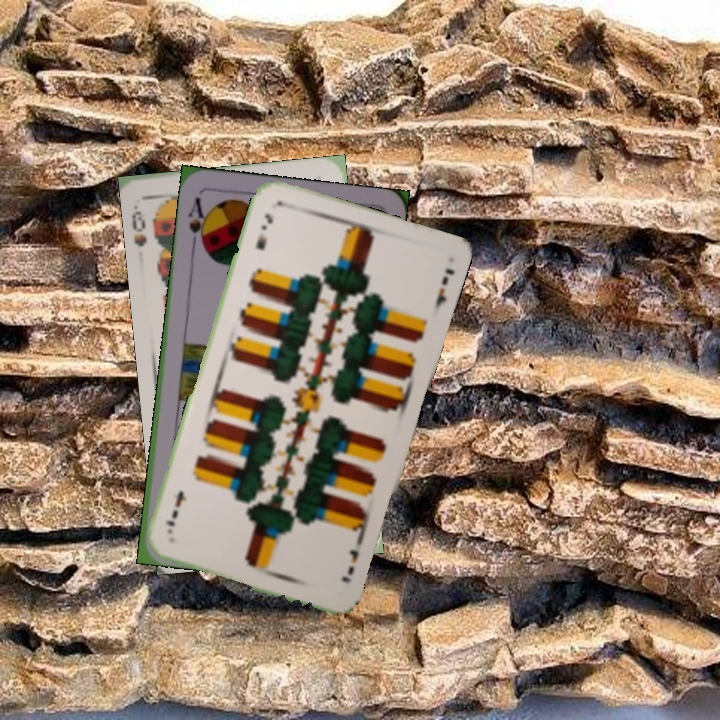E7: (251, 209, 276, 252), (337, 545, 361, 585)
S8: (128, 201, 150, 250)
SA: (183, 193, 211, 252)
